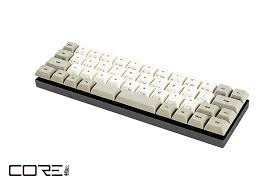keyboard: (34, 27, 245, 154)
